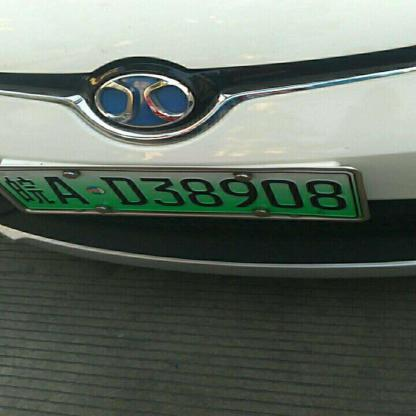lp: (1, 168, 361, 216)
